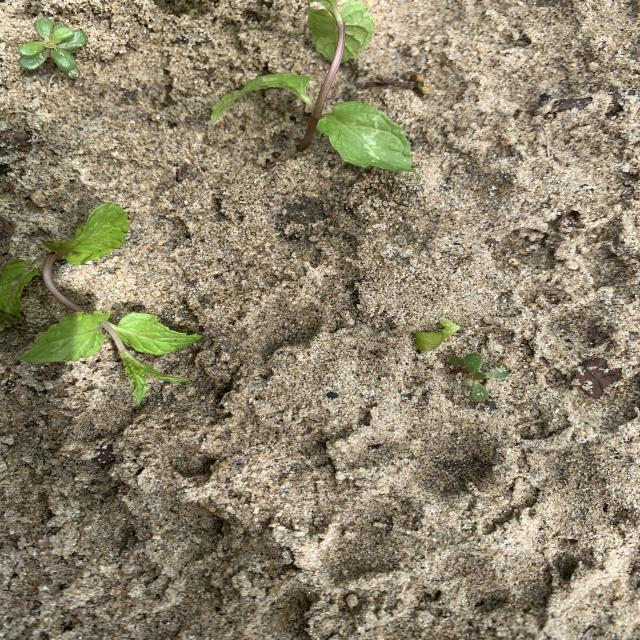crop: (0, 203, 199, 403), (227, 0, 413, 171)
weed: (18, 18, 87, 77), (449, 354, 507, 401)
